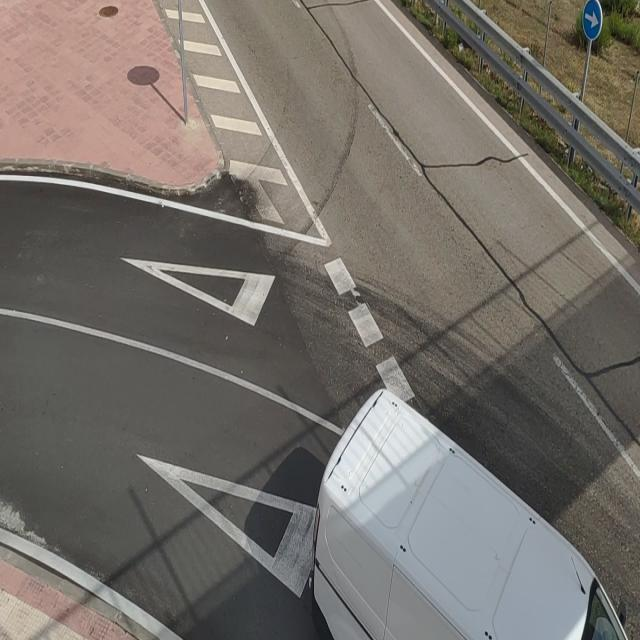Van: (306, 386, 640, 640)
